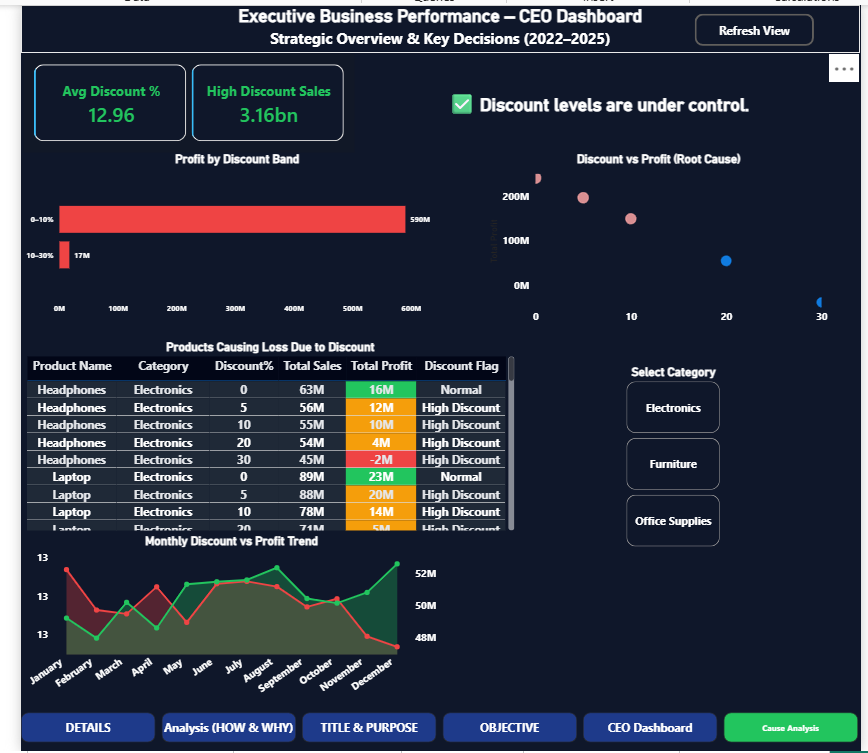

The dashboard page shown, as its layout file describes it:
{"tool":"powerbi","page":{"name":"Cause Analysis","canvas":[1350,1200],"ordinal":5},"visuals":[{"type":"textbox","title":"Executive Business Performance – CEO Dashboard","box":[0,0,1349.2,75.6],"z":0},{"type":"cardVisual","fields":{"Data":["Sales_Fact_Table.Avg Discount %","Sales_Fact_Table.High Discount Sales"]},"box":[4,78.4,532.8,158.8],"z":1000},{"type":"clusteredBarChart","title":"Profit by Discount Band","fields":{"Y":["Sales_Fact_Table.Total Profit"],"Category":["Sales_Fact_Table.Discount Band"]},"box":[2,237.3,691.7,269.4],"z":2000},{"type":"tableEx","title":"Products Causing Loss Due to Discount","fields":{"Values":["Product_Table.Product_Name","Product_Table.Category","Sales_Fact_Table.Discount%","Sales_Fact_Table.Total Sales","Sales_Fact_Table.Total Profit","Sales_Fact_Table.Discount Flag"]},"box":[4,538.9,794.2,311.7],"z":3000},{"type":"advancedSlicerVisual","title":"Select Category","fields":{"Values":["Product_Table.Category"]},"box":[969.2,579.1,160.9,299.6],"z":5000},{"type":"actionButton","box":[1083.8,14.7,191.7,51.6],"z":6000},{"type":"pageNavigator","box":[0,1138.1,1349.2,48.3],"z":7000},{"type":"card","fields":{"Values":["Sales_Fact_Table.Process Insight"]},"box":[542.9,110.6,772.1,96.5],"z":12000},{"type":"scatterChart","title":"Discount vs Profit (Root Cause)","fields":{"Y":["Sales_Fact_Table.Total Profit"],"X":["Avg(Sales_Fact_Table.Discount%)"],"Size":["Sales_Fact_Table.Total Sales"],"Series":["Product_Table.Category"],"Category":["Product_Table.Product_ID"]},"box":[748,237.3,555,285.5],"z":12001},{"type":"lineChart","title":"Monthly Discount vs Profit Trend","fields":{"Category":["Calendar_Table.YearMonth.Variation.Date Hierarchy.Month"],"Y":["Avg(Sales_Fact_Table.Discount%)"],"Y2":["Sales_Fact_Table.Total Profit"]},"box":[4,850.5,669.6,273.5],"z":12002}]}

Visuals, with their boxes in screenshot pixels (x1, y1, x2, y2), scaled from the page's 1350x1200 canvas onto the 868x753 screenshot:
"Executive Business Performance – CEO Dashboard" textbox: (0, 0, 867, 47)
cardVisual - Sales_Fact_Table.Avg Discount % x Sales_Fact_Table.High Discount Sales: (3, 49, 345, 149)
"Profit by Discount Band" clusteredBarChart: (1, 149, 446, 318)
"Products Causing Loss Due to Discount" tableEx: (3, 338, 513, 534)
"Select Category" advancedSlicerVisual: (623, 363, 727, 551)
actionButton: (697, 9, 820, 42)
pageNavigator: (0, 714, 867, 744)
card - Sales_Fact_Table.Process Insight: (349, 69, 845, 130)
"Discount vs Profit (Root Cause)" scatterChart: (481, 149, 838, 328)
"Monthly Discount vs Profit Trend" lineChart: (3, 534, 433, 705)
